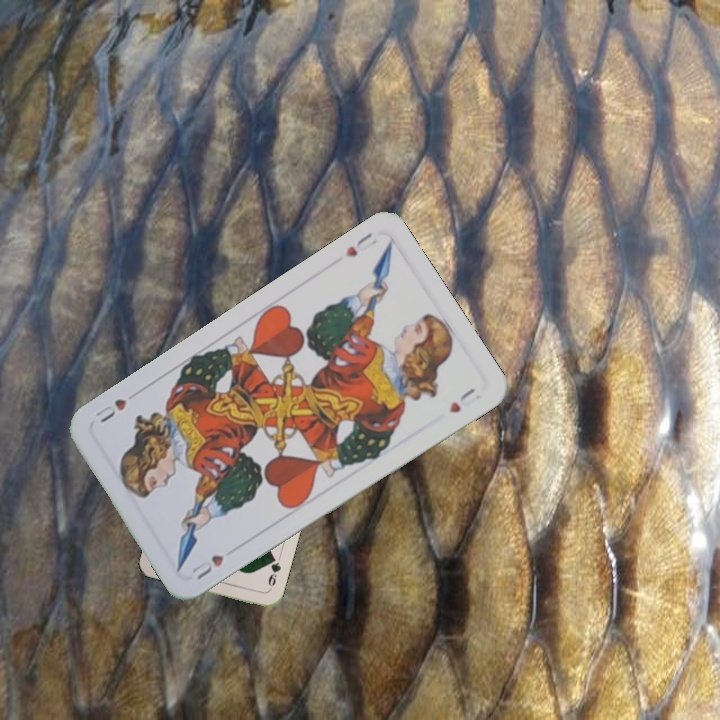G9: (264, 553, 284, 594)
HU: (187, 550, 227, 582), (341, 228, 380, 260)
